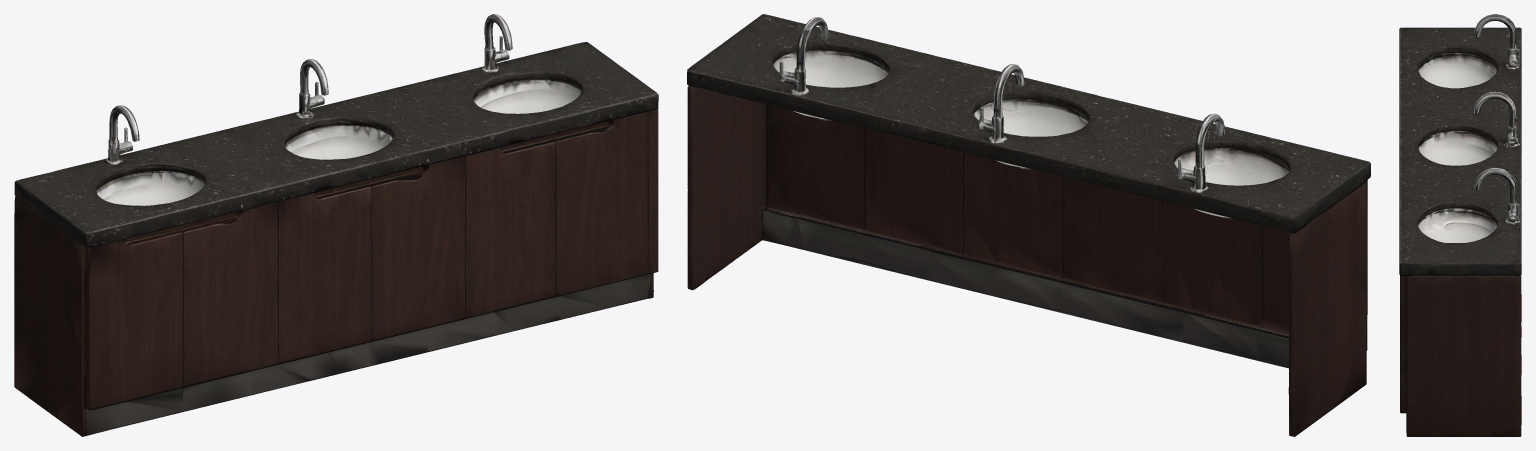
The model's file is bathroom_vanity.glb.
3 renders of one model, left to right at view 1: azimuth 30°, elevation 25°; view 2: azimuth 150°, elevation 25°; view 3: azimuth 270°, elevation 25°, orthographic. The views are drawn at different scales.
Parts seen in each view (by area): view 1: mesh_node; view 2: mesh_node; view 3: mesh_node.
Part boxes in pixels (bbox=[...]): mesh_node: bbox=[14, 14, 658, 436]; mesh_node: bbox=[687, 14, 1370, 436]; mesh_node: bbox=[1399, 14, 1521, 436].
Size of the model in its own units: 1.9 by 0.8538 by 0.4181.
Materials: 1 (1 with a texture image).
